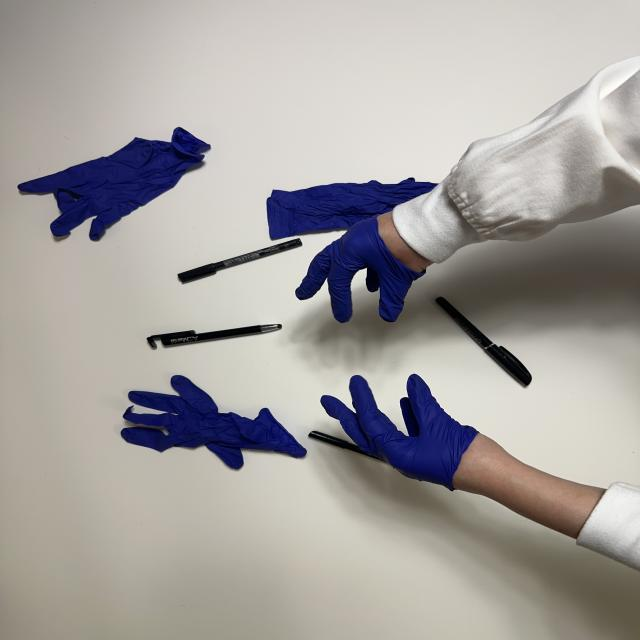glove_not_fitted: (321, 372, 514, 497), (298, 212, 433, 324)
